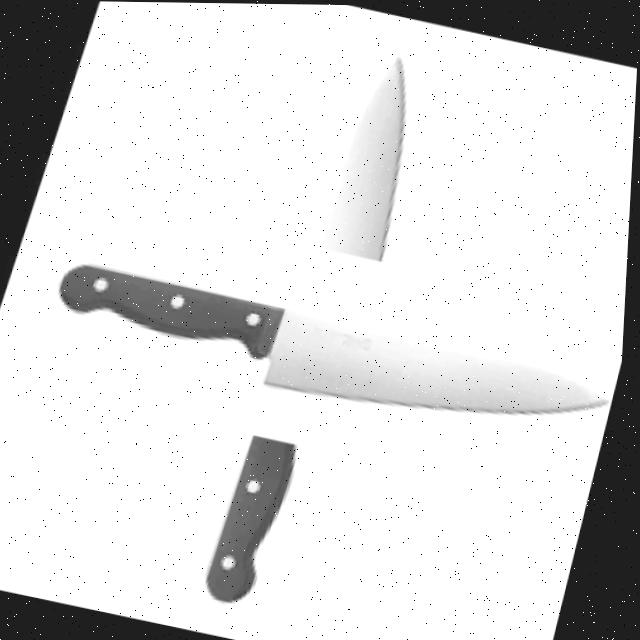knife: (199, 39, 439, 621), (41, 256, 624, 456)
